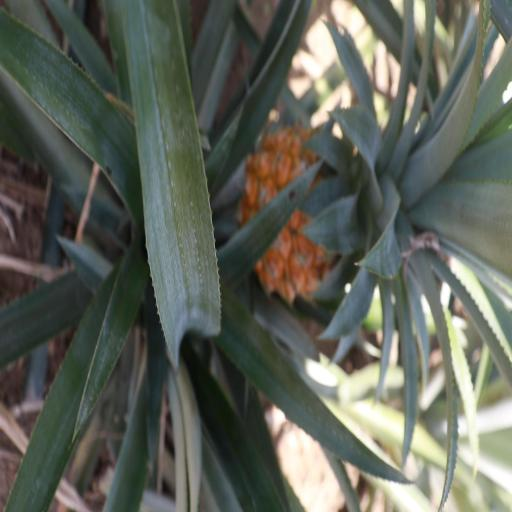Pineapple - v8 v1: (246, 116, 512, 298)
